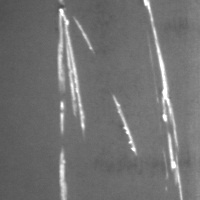scratches: (140, 1, 187, 200), (56, 6, 97, 145), (109, 92, 139, 158), (55, 146, 73, 200)
